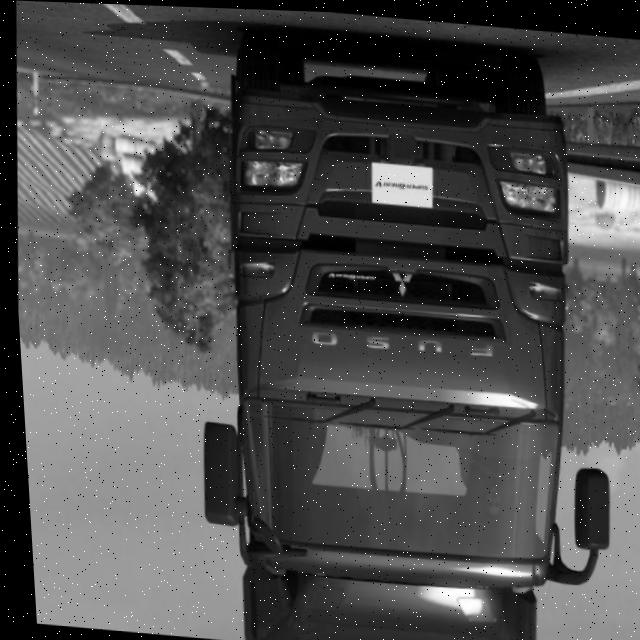truck: (171, 39, 637, 640)
